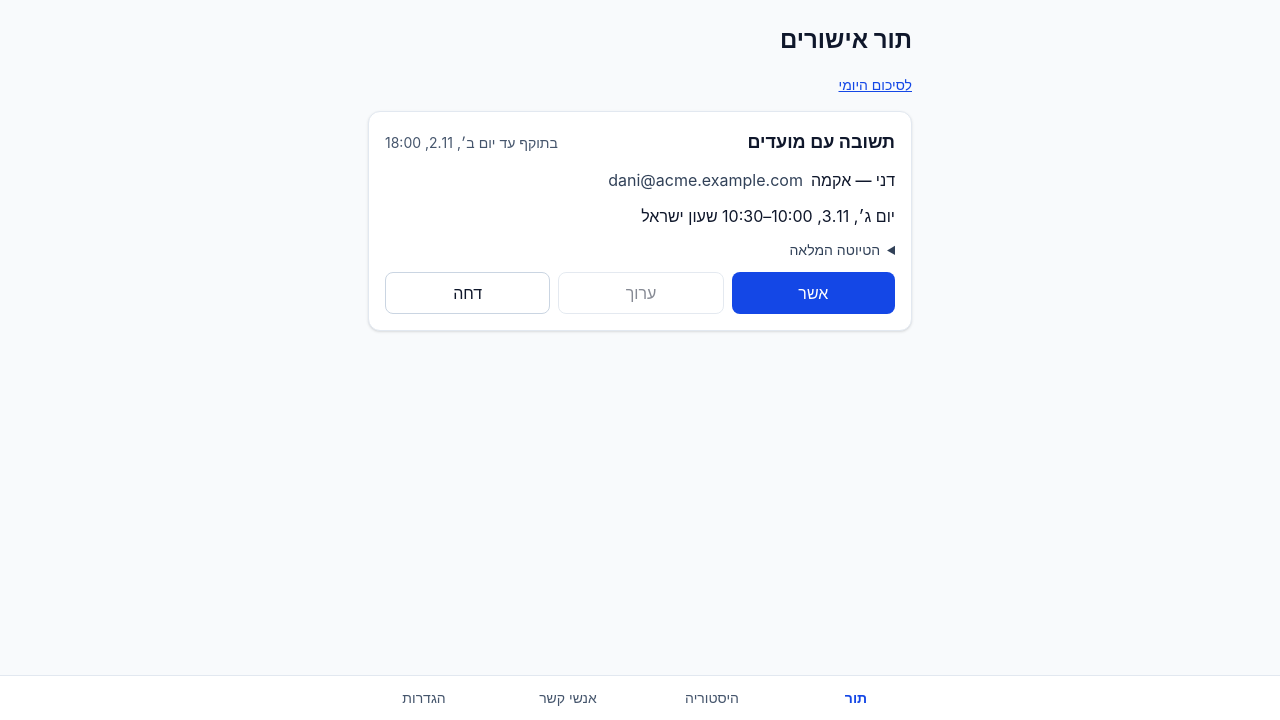
Test: approval queue › approves exactly what was shown: the card's content hash goes to the server
The width and height of the screenshot is (1280, 720).
Step 1. Click the button "אשר" → (813, 293), box x1=732 y1=272 x2=895 y2=314
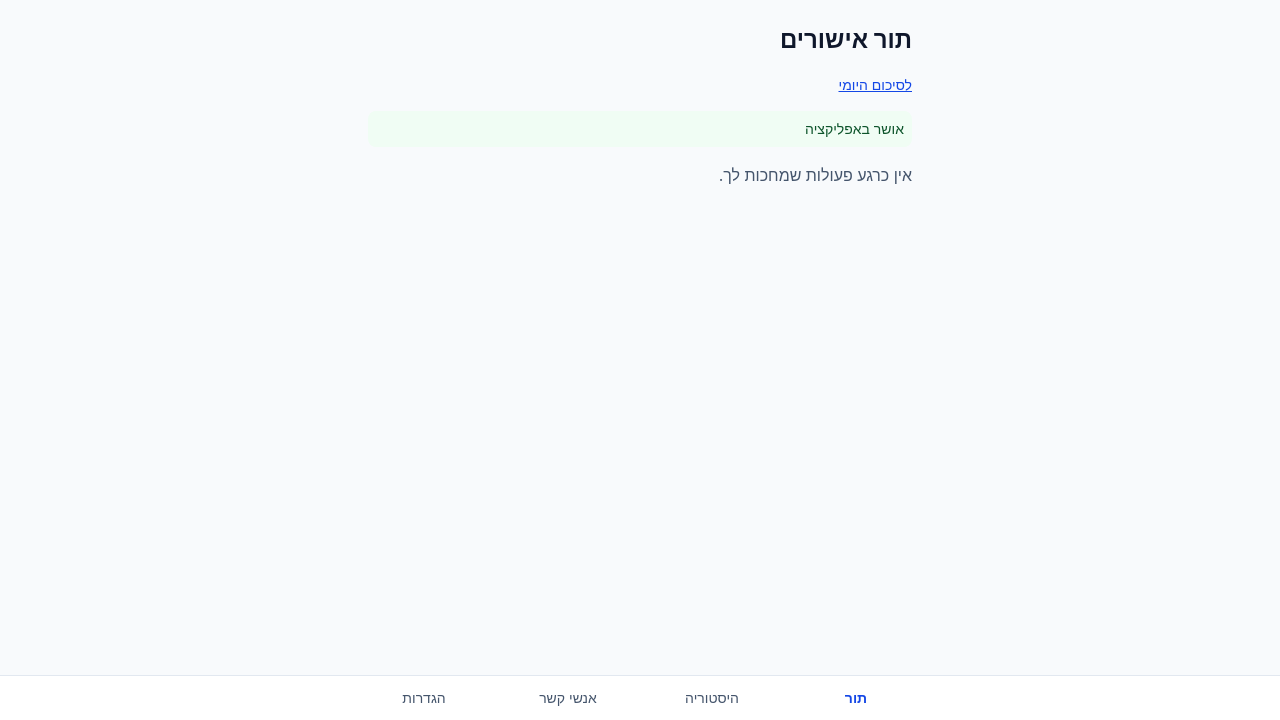
expect the text "אין כרגע פעולות שמחכות לך." is shown: met, box x1=719 y1=165 x2=912 y2=185
expect the message reads "אושר באפליקציה": met, box x1=805 y1=120 x2=904 y2=137
